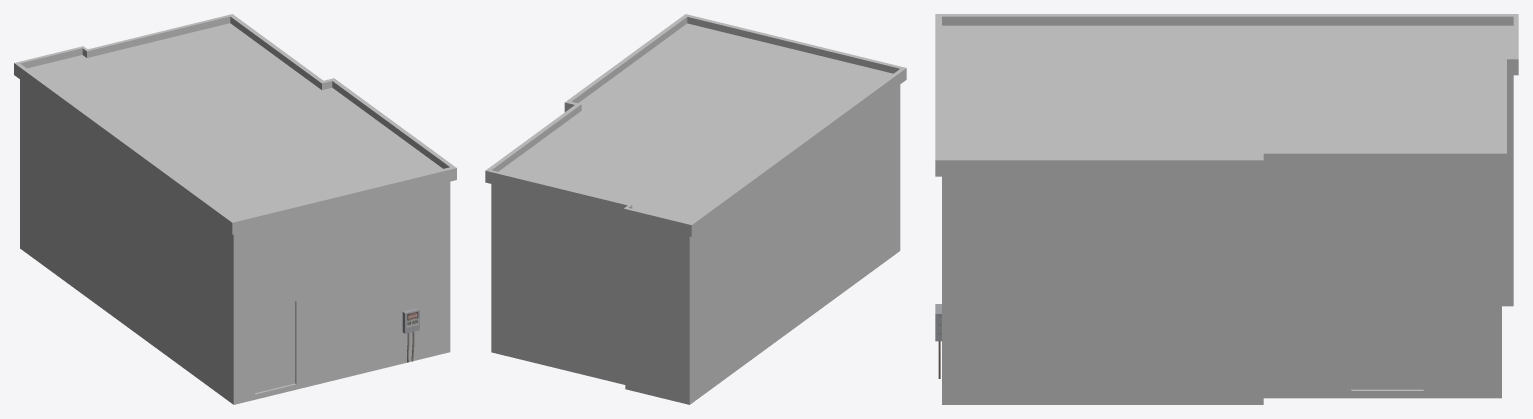
Rendered from Building01.fbx.
3 views of the same model, side by side, from view 1: azimuth 30°, elevation 25°; view 2: azimuth 150°, elevation 25°; view 3: azimuth 270°, elevation 25° (orthographic). The views are drawn at different scales.
Visible parts, largest first — view 1: Cube; view 2: Cube; view 3: Cube.
Boxes of the visible parts, bbox=[...] form: Cube: bbox=[14, 14, 456, 404]; Cube: bbox=[485, 14, 906, 404]; Cube: bbox=[935, 14, 1518, 404].
Bounding box in the file's own units: 36.51 × 28.74 × 61.47.
